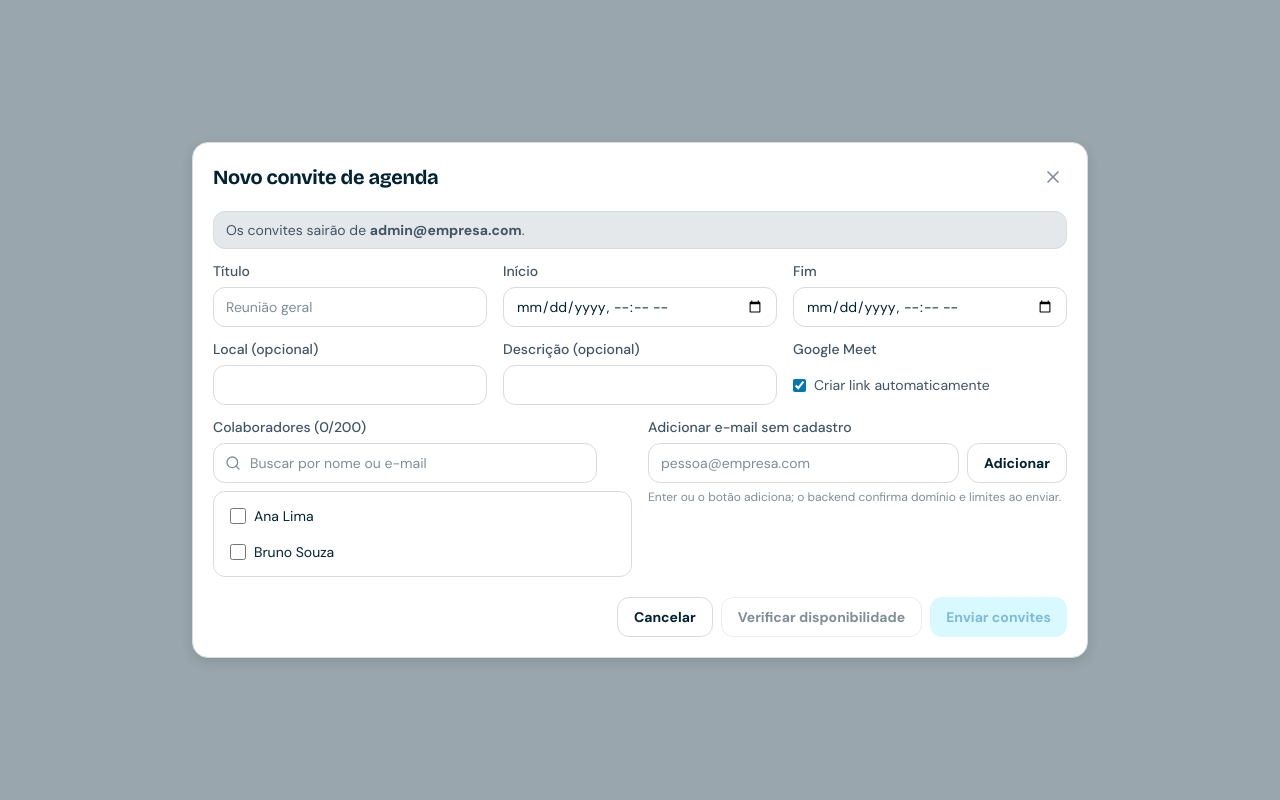
Test case: ConviteAgendaDialog › criação › adiciona e-mail manual como chip e recusa duplicado
Type "externo@fora.com" into the field labelled "Adicionar e-mail sem cadastro" at (803,463), box [648,443,959,483]
Then press Enter
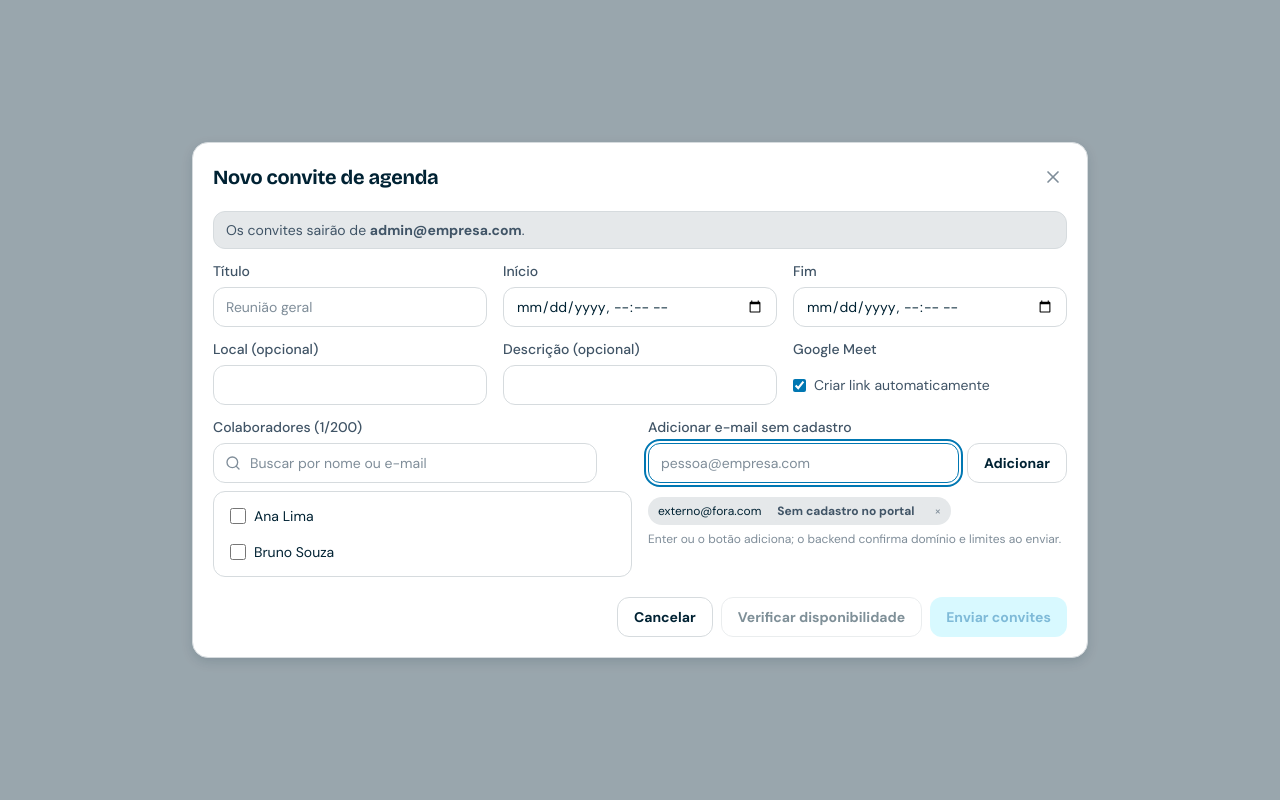
Result: the text "externo@fora.com" is shown at [658,503,761,519]
Result: the text "Sem cadastro no portal" is shown once at [767,501,924,521]
Type "externo@fora.com" into the field labelled "Adicionar e-mail sem cadastro" at (803,463), box [648,443,959,483]
Then press Enter
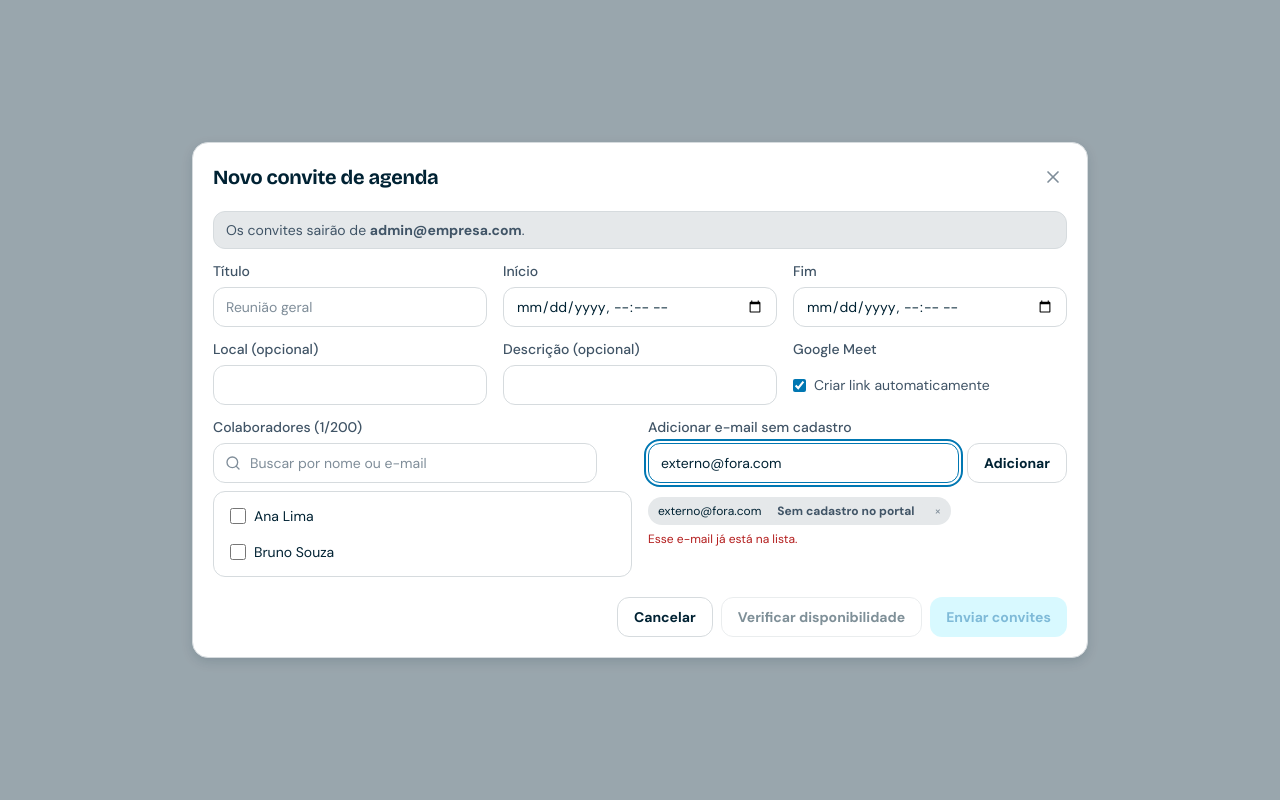
Result: the text "Esse e-mail já está na lista." is shown at [648,531,797,547]
